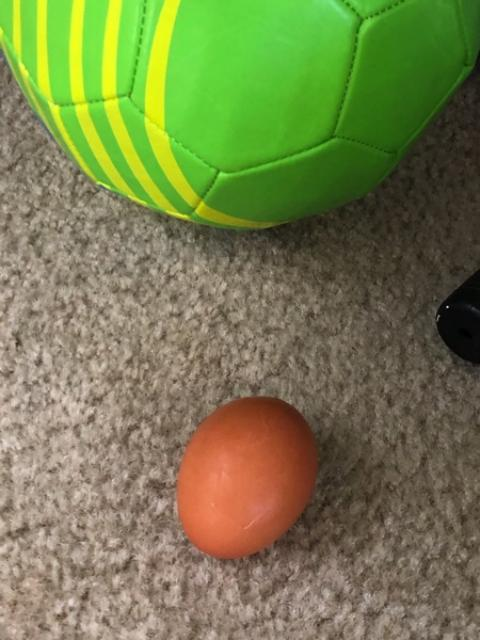Roto: (175, 394, 319, 560)
